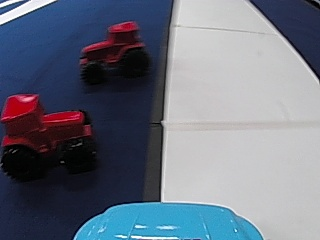tractor: (0, 90, 99, 180), (78, 17, 151, 84)
